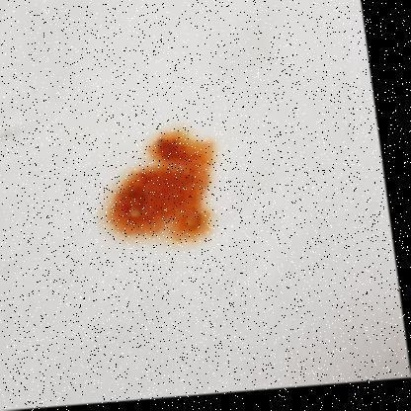kimchi: (105, 123, 217, 245)
